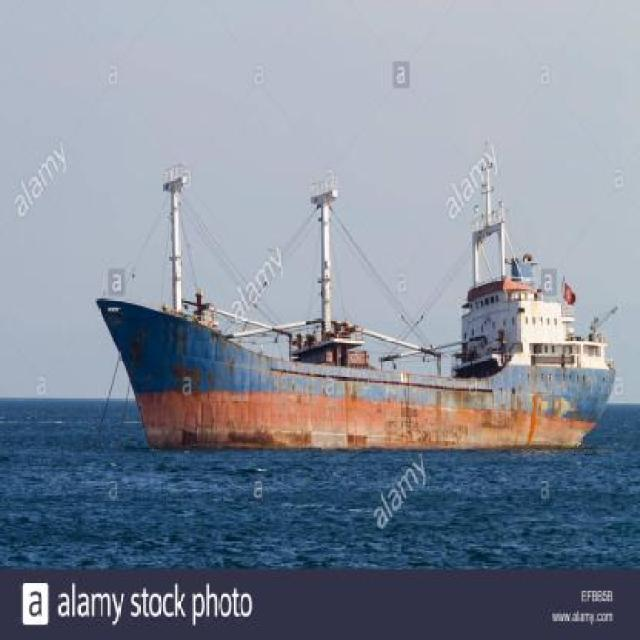corrosion: (95, 170, 619, 458)
